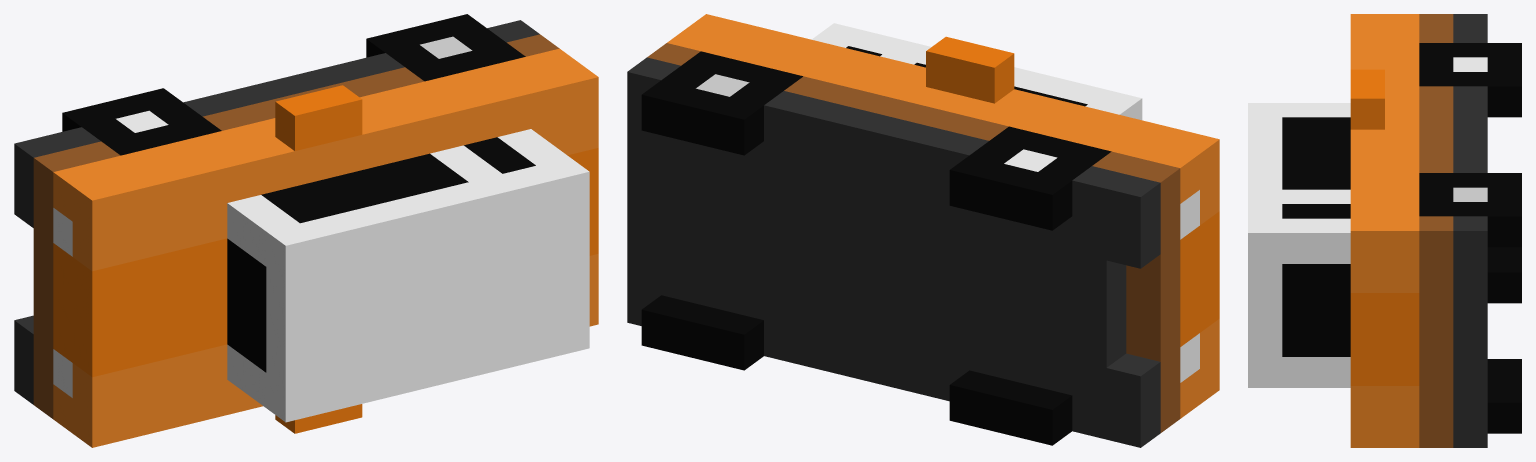
File: VoxelCarC.obj
3 views of the same model, side by side, from view 1: azimuth 30°, elevation 25°; view 2: azimuth 150°, elevation 25°; view 3: azimuth 270°, elevation 25° (orthographic). The views are drawn at different scales.
Parts seen in each view (by area): view 1: VoxelCar_C; view 2: VoxelCar_C; view 3: VoxelCar_C.
Boxes of the visible parts, x1=… form: VoxelCar_C: x1=14, y1=14, x2=598, y2=447; VoxelCar_C: x1=627, y1=14, x2=1219, y2=447; VoxelCar_C: x1=1248, y1=14, x2=1521, y2=447.
Bounding box in the file's own units: 1.96 × 1.18 × 1.05.
